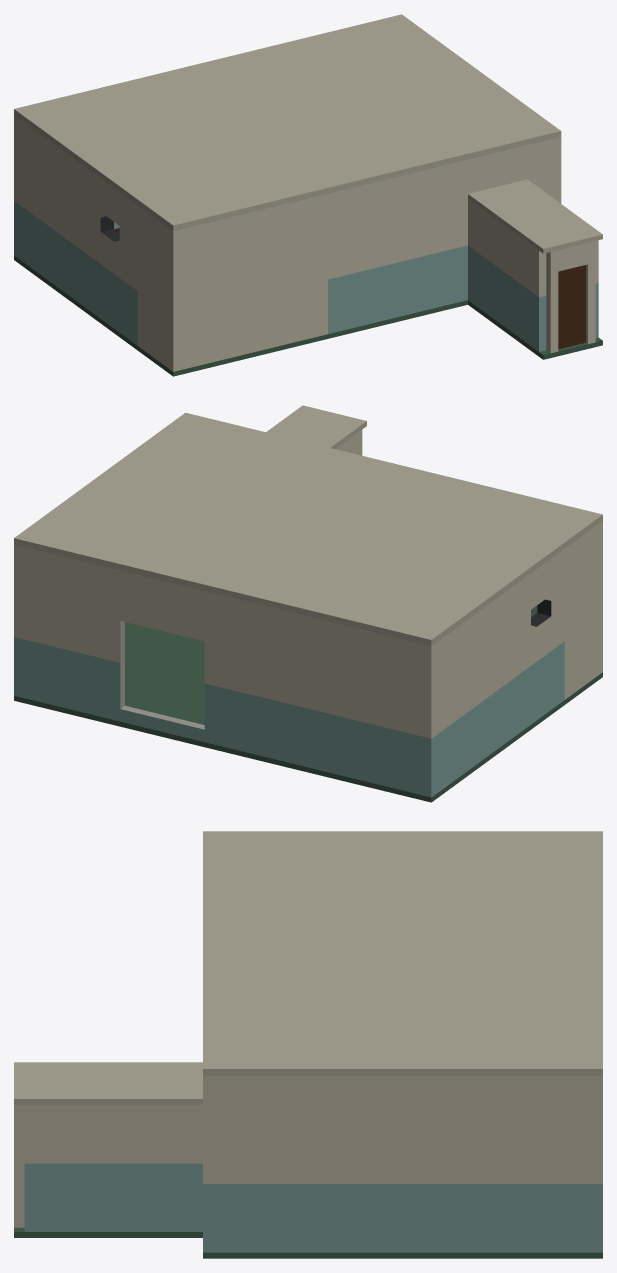
Rendered from room_archive.glb.
3 views of the same model, one above another, from view 1: azimuth 30°, elevation 25°; view 2: azimuth 150°, elevation 25°; view 3: azimuth 270°, elevation 25° (orthographic). The views are drawn at different scales.
Parts seen in each view (by area): view 1: ceiling, wall_s, wall_w, corridor, floor, wall_n; view 2: ceiling, wall_n, wall_w, floor, corridor, wall_s; view 3: ceiling, wall_e, corridor, floor, wall_n, wall_s.
Part boxes in pixels (<box>): ceiling: <box>14,14,561,231</box>; wall_s: <box>169,137,561,371</box>; wall_w: <box>18,118,168,368</box>; corridor: <box>468,179,602,359</box>; floor: <box>14,255,467,376</box>; wall_n: <box>14,115,119,257</box>; ceiling: <box>14,412,602,646</box>; wall_n: <box>14,544,435,797</box>; wall_w: <box>436,524,598,793</box>; floor: <box>14,622,602,802</box>; corridor: <box>266,405,366,455</box>; wall_s: <box>598,521,602,674</box>; ceiling: <box>203,831,602,1076</box>; wall_e: <box>214,1076,592,1252</box>; corridor: <box>14,1062,202,1237</box>; floor: <box>203,1252,602,1258</box>; wall_n: <box>592,1076,602,1252</box>; wall_s: <box>203,1076,213,1252</box>.
Bounding box in the file's own units: 10.55 × 4.11 × 10.9.
